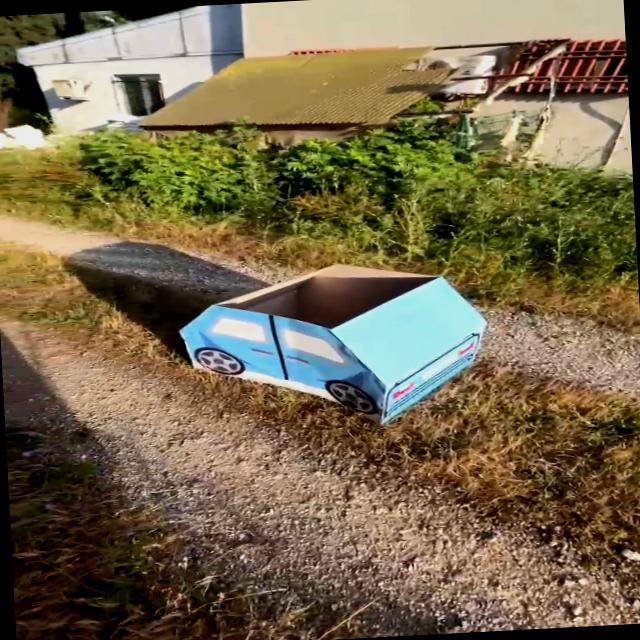blue_car: (134, 231, 500, 438)
